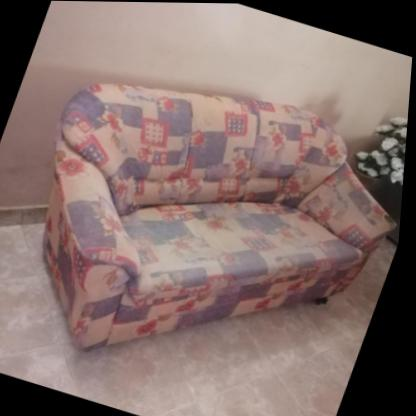Sofa: (0, 39, 414, 416)
